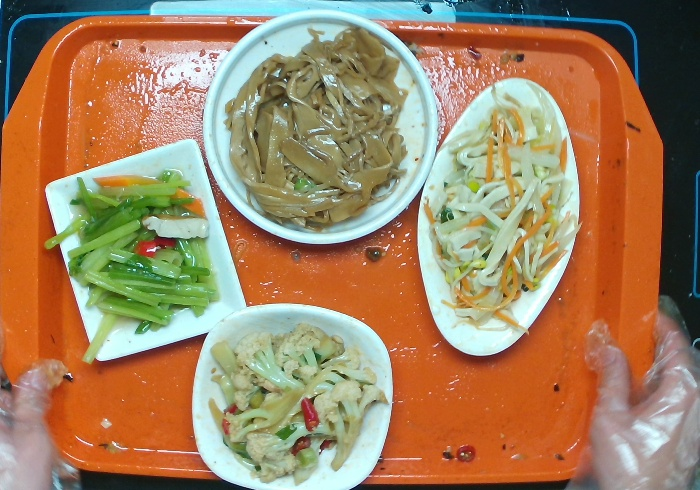HZYJPL-Si_Fang_Die: (43, 134, 251, 363)
HZYJPL-Si_Fang_Yuan_Die: (178, 298, 397, 488)
HZYJPL-Xiao_Yu_Die: (411, 72, 583, 364)
HZYJPL-Xiao_Yuan_Die: (201, 4, 441, 252)
